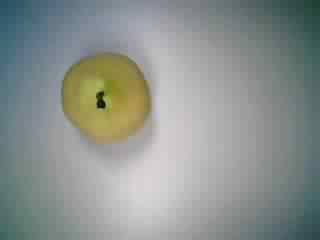pear: (51, 45, 156, 148)
